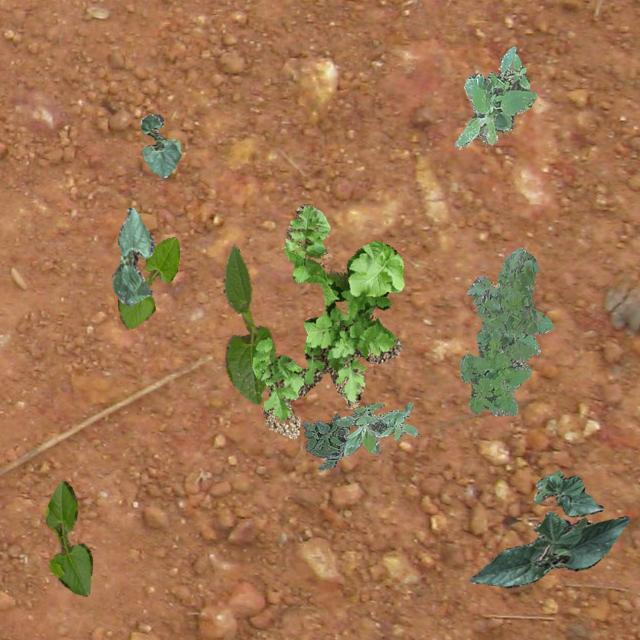crop: (468, 511, 628, 586), (222, 242, 274, 403), (116, 235, 178, 328), (44, 480, 92, 596), (110, 206, 154, 304), (532, 470, 602, 516), (140, 112, 180, 176)
weed: (252, 202, 402, 438), (458, 246, 552, 414), (454, 44, 536, 148), (334, 402, 416, 456), (300, 412, 358, 469)
